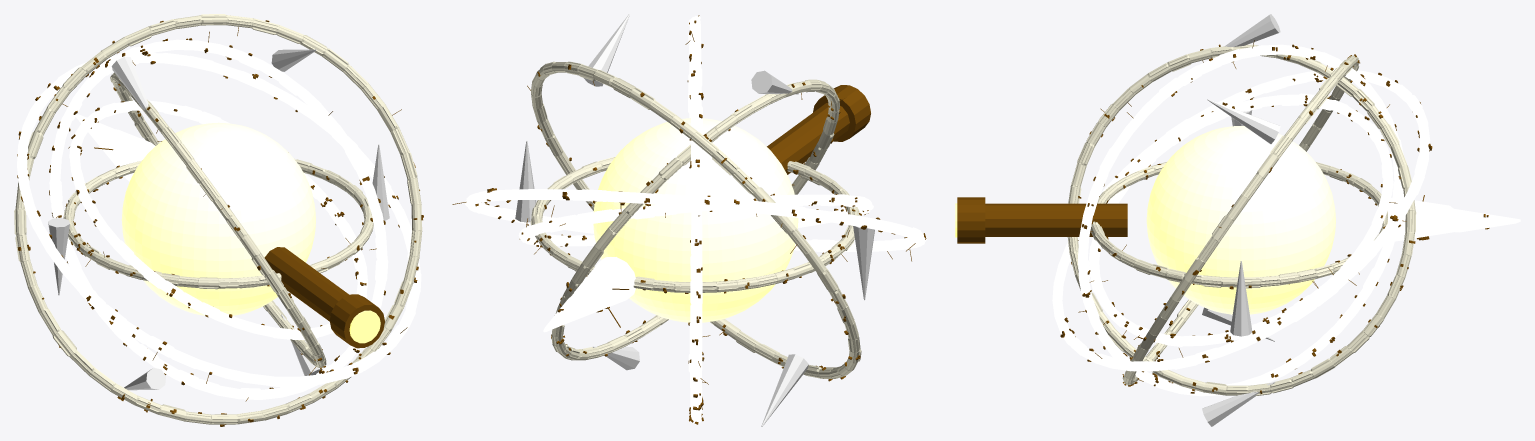
The model's file is quorai_large.glb.
3 views of the same model, side by side, from view 1: azimuth 30°, elevation 25°; view 2: azimuth 150°, elevation 25°; view 3: azimuth 270°, elevation 25° (orthographic). The views are drawn at different scales.
Parts seen in each view (by area): view 1: quorai_large; view 2: quorai_large; view 3: quorai_large.
Boxes of the visible parts, x1=… form: quorai_large: x1=14, y1=14, x2=423, y2=426; quorai_large: x1=452, y1=14, x2=926, y2=426; quorai_large: x1=955, y1=14, x2=1520, y2=426.
Size of the model in its own units: 7.44 by 6.83 by 10.
